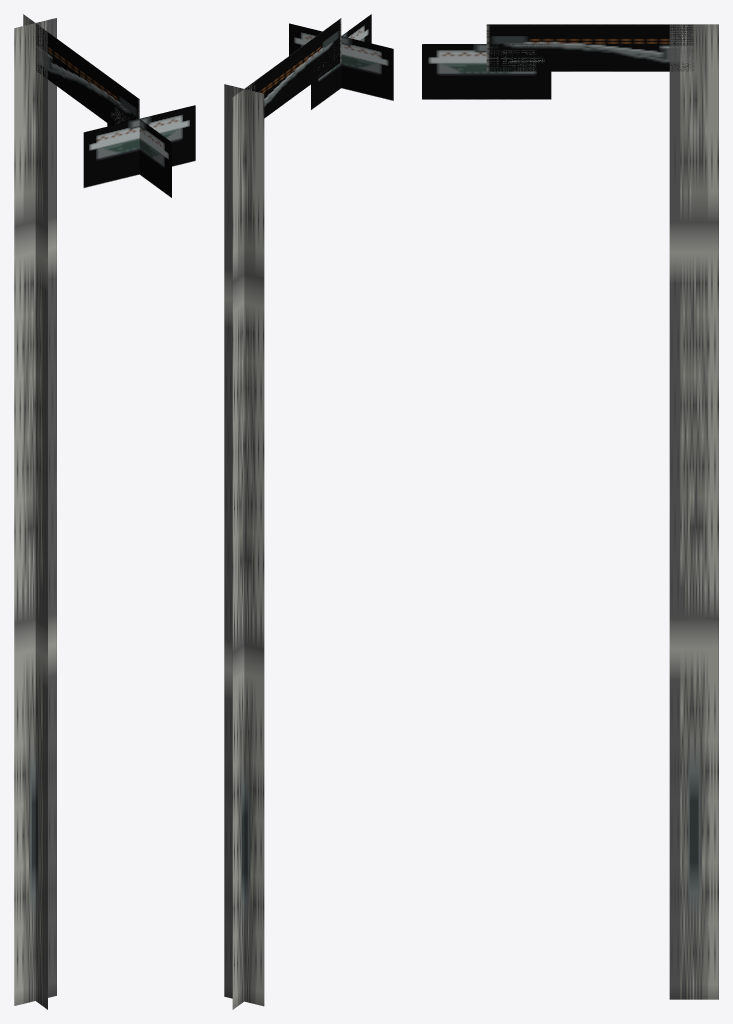
File: lamp.gltf
The picture shows the model from 3 angles, left to right: view 1: azimuth 30°, elevation 25°; view 2: azimuth 150°, elevation 25°; view 3: azimuth 270°, elevation 25°; orthographic projection. The views are drawn at different scales.
Parts seen in each view (by area): view 1: lamp; view 2: lamp; view 3: lamp.
Part boxes in pixels (box(x1,y1,x2,y2)): lamp: box(14, 14, 195, 1009); lamp: box(224, 14, 393, 1009); lamp: box(422, 24, 718, 999).
Size of the model in its own units: 0.84 by 7 by 1.93.
Materials: 1 (1 with a texture image).
